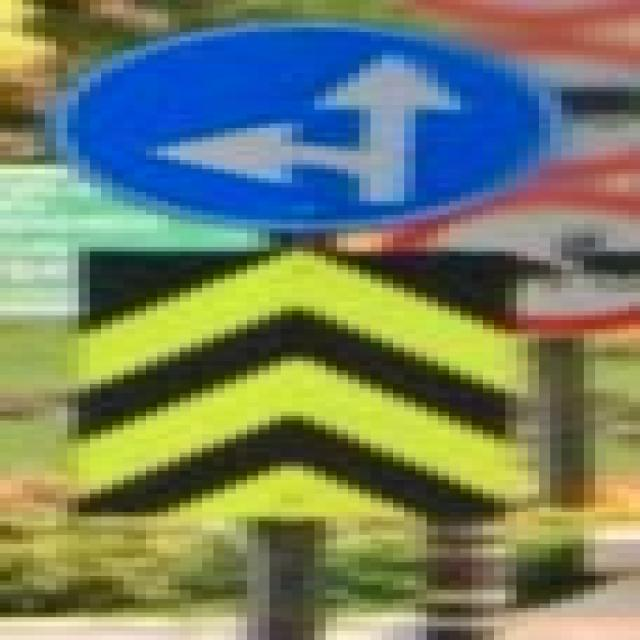Straight or Left: (52, 26, 546, 227)
